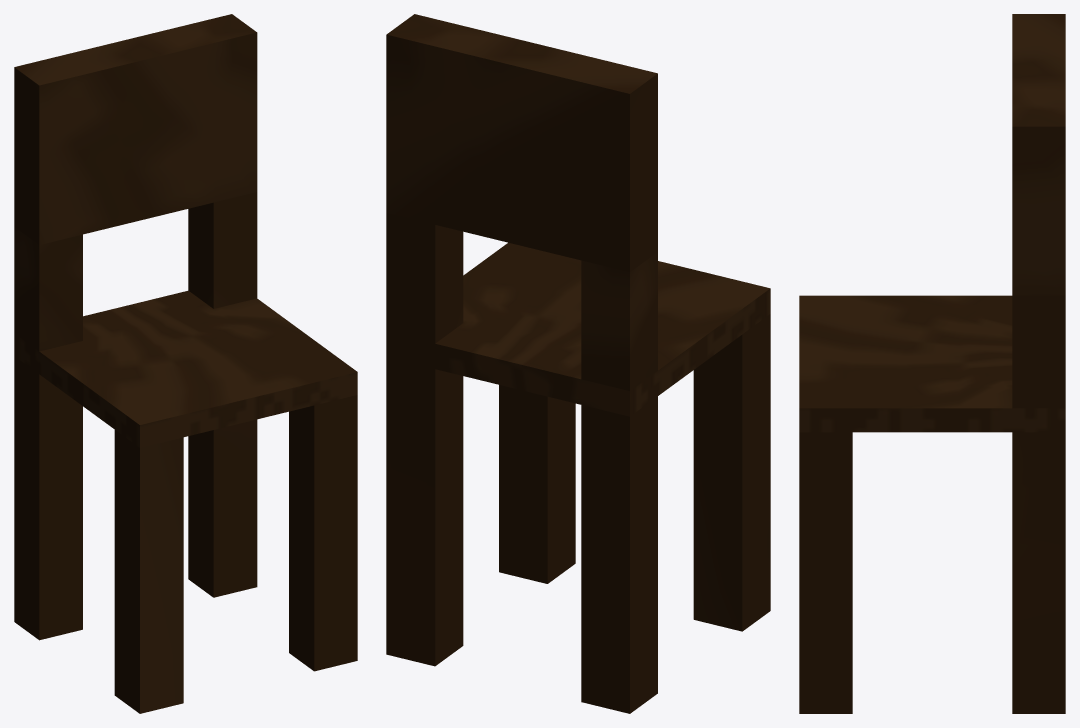
The model's file is Stuhl.fbx.
3 views of the same model, side by side, from view 1: azimuth 30°, elevation 25°; view 2: azimuth 150°, elevation 25°; view 3: azimuth 270°, elevation 25° (orthographic). The views are drawn at different scales.
Visible parts, largest first — view 1: Stuhl; view 2: Stuhl; view 3: Stuhl.
Boxes of the visible parts, left/top/right/bottom form: Stuhl: left=14, top=14, right=357, bottom=713; Stuhl: left=386, top=14, right=770, bottom=713; Stuhl: left=799, top=14, right=1065, bottom=713.
Size of the model in its own units: 12 by 29.2 by 12.
1 material, 1 textured.
